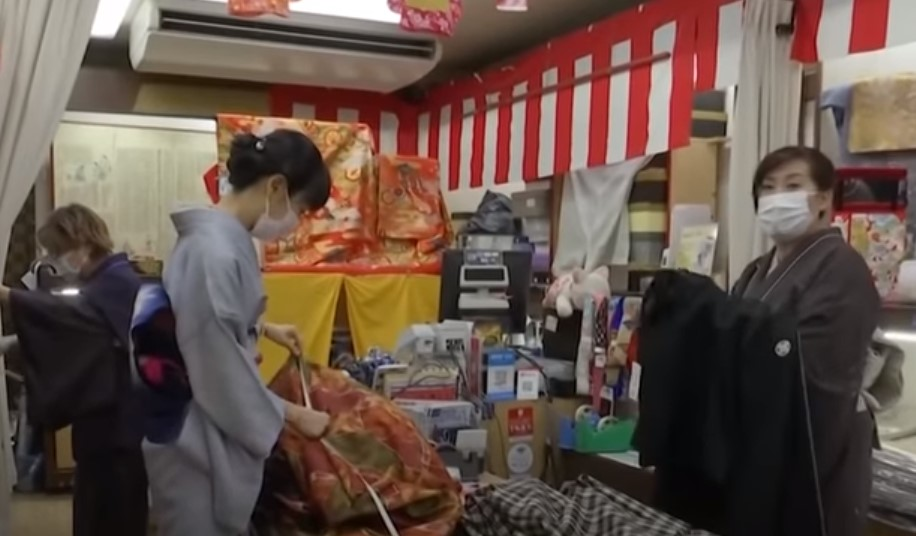face_with_mask: (227, 127, 324, 247), (751, 146, 835, 249)
